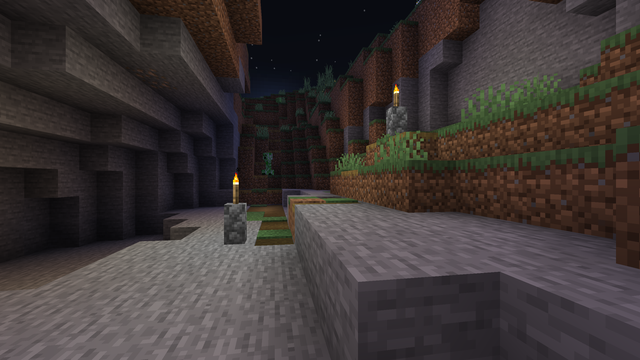creepers: (263, 151, 271, 174)
slimes: (276, 97, 280, 102)
